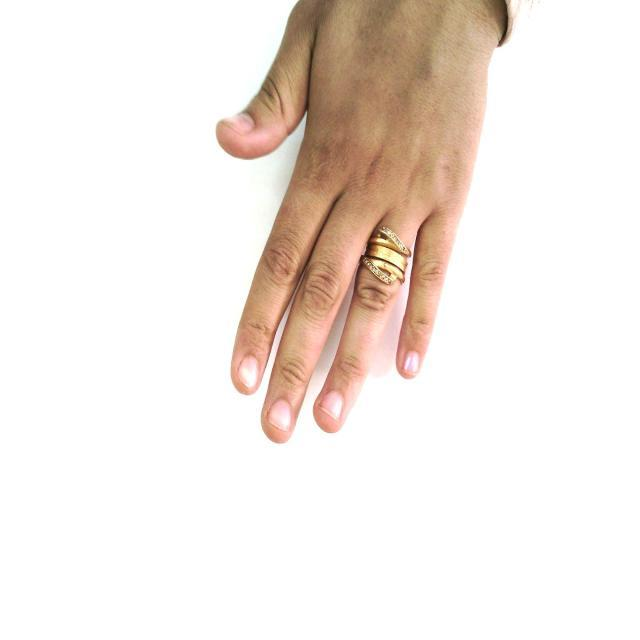Fingernail: (269, 400, 291, 432), (221, 113, 253, 134), (239, 357, 258, 386), (321, 392, 342, 418), (405, 352, 419, 375)
